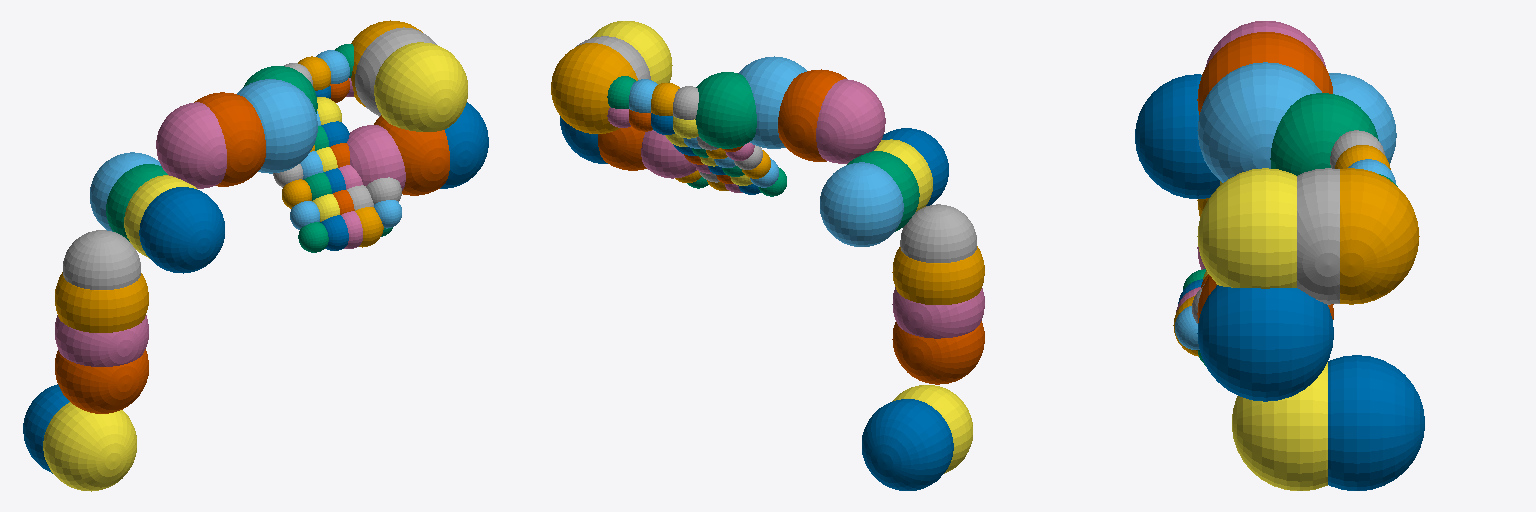
--- What the picture shows (computed from the rendered views, not written in the file) ---
Views: 3 orthographic renders of the robot side by side, from view 1: azimuth 30°, elevation 25°; view 2: azimuth 150°, elevation 25°; view 3: azimuth 270°, elevation 25°.
Model panda with 67 links and 66 joints (7 revolute, 59 fixed), rooted at panda_link0, posed joints at zero except 1 at the middle of their limits (panda_joint4 = -1.57).
Links seen in each view (by area): view 1: panda_link6_0, panda_link2_0, panda_link4_1, panda_link4_3, panda_link5_2, panda_link3_1, panda_link2_2, panda_link3_0, panda_link4_2, panda_link2_3, panda_link6_2, panda_link7_0 (+18 smaller); view 2: panda_link2_1, panda_link3_2, panda_link5_1, panda_link4_3, panda_link5_3, panda_link3_1, panda_link2_2, panda_link3_0, panda_link4_2, panda_link5_2, panda_link2_3, panda_link2_0 (+12 smaller); view 3: panda_link6_1, panda_link2_1, panda_link6_0, panda_link5_1, panda_link5_2, panda_link2_0, panda_link4_1, panda_link5_0, panda_link5_3, panda_link4_2, panda_link3_2, panda_link4_3 (+3 smaller).
Boxes of the visible links, x1,y1,x2,y2 form: panda_link6_0: (374,42,467,131); panda_link2_0: (43,402,136,491); panda_link4_1: (139,187,224,273); panda_link4_3: (156,102,226,188); panda_link5_2: (237,79,317,173); panda_link3_1: (55,272,148,332); panda_link2_2: (55,349,148,413); panda_link3_0: (63,230,140,289); panda_link4_2: (194,92,265,186); panda_link2_3: (55,315,148,366); panda_link6_2: (374,115,449,195); panda_link7_0: (347,125,405,190); panda_link2_1: (862,399,953,490); panda_link3_2: (820,162,903,246); panda_link5_1: (551,43,637,133); panda_link4_3: (816,79,885,163); panda_link5_3: (695,72,756,148); panda_link3_1: (892,246,984,304); panda_link2_2: (892,321,984,384); panda_link3_0: (900,204,976,262); panda_link4_2: (778,69,846,161); panda_link5_2: (738,56,806,148); panda_link2_3: (892,287,984,338); panda_link2_0: (892,385,972,473); panda_link6_1: (1197,285,1333,401); panda_link2_1: (1328,355,1424,490); panda_link6_0: (1197,168,1296,288); panda_link5_1: (1340,168,1419,304); panda_link5_2: (1197,62,1321,182); panda_link2_0: (1232,362,1327,490); panda_link4_1: (1135,74,1219,198); panda_link5_0: (1297,168,1339,304); panda_link5_3: (1270,93,1378,175); panda_link4_2: (1197,32,1332,114); panda_link3_2: (1329,73,1396,163); panda_link4_3: (1205,21,1325,67).
Bounding box of the posed robot: 0.6165 × 0.255 × 0.5185 m (x, y, z).
0 mesh visuals loaded from 9 distinct referenced files (none loaded); not drawn: 9 (reference not matched to a file when rendering).

URDF robot description (panda):
<?xml version="1.0" ?>
<robot name="panda" version="1.0">
   <link name="panda_link0">
      <inertial>
         <origin xyz="0.0 0.0 0.0" rpy="0.0 0.0 0.0"/>
         <mass value="2.8142028896"/>
         <inertia ixx="0.0129886979" ixy="0.0" ixz="0.0" iyy="0.0165355284" iyz="0.0" izz="0.0203311636"/>
      </inertial>
      <visual>
         <geometry>
            <mesh filename="package://franka_description/meshes/visual/link0.dae"/>
         </geometry>
      </visual>
      <collision>
         <geometry>
            <mesh filename="package://franka_description/meshes/collision/link0.stl"/>
         </geometry>
      </collision>
   </link>
   <link name="panda_link1">
      <inertial>
         <origin xyz="0.0 0.0 0.0" rpy="0.0 0.0 0.0"/>
         <mass value="2.3599995791"/>
         <inertia ixx="0.0186863903" ixy="0.0" ixz="0.0" iyy="0.0143789874" iyz="0.0" izz="0.00906812"/>
      </inertial>
      <visual>
         <geometry>
            <mesh filename="package://franka_description/meshes/visual/link1.dae"/>
         </geometry>
      </visual>
      <collision>
         <geometry>
            <mesh filename="package://franka_description/meshes/collision/link1.stl"/>
         </geometry>
      </collision>
   </link>
   <joint name="panda_joint1" type="revolute">
      <origin xyz="0.0 0.0 0.333" rpy="0.0 0.0 0.0"/>
      <axis xyz="0.0 0.0 1.0"/>
      <parent link="panda_link0"/>
      <child link="panda_link1"/>
      <limit effort="87.0" lower="-2.8973" upper="2.8973" velocity="2.175"/>
      <safety_controller k_velocity="40.0" k_position="100.0" soft_lower_limit="-2.8973" soft_upper_limit="2.8973"/>
   </joint>
   <link name="panda_link2">
      <inertial>
         <origin xyz="0.0 0.0 0.0" rpy="0.0 0.0 0.0"/>
         <mass value="2.379518833"/>
         <inertia ixx="0.0190388734" ixy="0.0" ixz="0.0" iyy="0.0091429124" iyz="0.0" izz="0.014697537"/>
      </inertial>
      <visual>
         <geometry>
            <mesh filename="package://franka_description/meshes/visual/link2.dae"/>
         </geometry>
      </visual>
      <collision>
         <geometry>
            <mesh filename="package://franka_description/meshes/collision/link2.stl"/>
         </geometry>
      </collision>
   </link>
   <joint name="panda_joint2" type="revolute">
      <origin xyz="0.0 0.0 0.0" rpy="-1.57079632679 0.0 0.0"/>
      <axis xyz="0.0 0.0 1.0"/>
      <parent link="panda_link1"/>
      <child link="panda_link2"/>
      <limit effort="87.0" lower="-1.7628" upper="1.7628" velocity="2.175"/>
      <safety_controller k_velocity="40.0" k_position="100.0" soft_lower_limit="-1.7628" soft_upper_limit="1.7628"/>
   </joint>
   <link name="panda_link3">
      <inertial>
         <origin xyz="0.0 0.0 0.0" rpy="0.0 0.0 0.0"/>
         <mass value="2.6498823337"/>
         <inertia ixx="0.0129300178" ixy="0.0" ixz="0.0" iyy="0.0150242121" iyz="0.0" izz="0.0142734598"/>
      </inertial>
      <visual>
         <geometry>
            <mesh filename="package://franka_description/meshes/visual/link3.dae"/>
         </geometry>
      </visual>
      <collision>
         <geometry>
            <mesh filename="package://franka_description/meshes/collision/link3.stl"/>
         </geometry>
      </collision>
   </link>
   <joint name="panda_joint3" type="revolute">
      <origin xyz="0.0 -0.316 0.0" rpy="1.57079632679 0.0 0.0"/>
      <axis xyz="0.0 0.0 1.0"/>
      <parent link="panda_link2"/>
      <child link="panda_link3"/>
      <limit effort="87.0" lower="-2.8973" upper="2.8973" velocity="2.175"/>
      <safety_controller k_velocity="40.0" k_position="100.0" soft_lower_limit="-2.8973" soft_upper_limit="2.8973"/>
   </joint>
   <link name="panda_link4">
      <inertial>
         <origin xyz="0.0 0.0 0.0" rpy="0.0 0.0 0.0"/>
         <mass value="2.6948018744"/>
         <inertia ixx="0.0133874611" ixy="0.0" ixz="0.0" iyy="0.014514325" iyz="0.0" izz="0.0155175551"/>
      </inertial>
      <visual>
         <geometry>
            <mesh filename="package://franka_description/meshes/visual/link4.dae"/>
         </geometry>
      </visual>
      <collision>
         <geometry>
            <mesh filename="package://franka_description/meshes/collision/link4.stl"/>
         </geometry>
      </collision>
   </link>
   <joint name="panda_joint4" type="revolute">
      <origin xyz="0.0825 0.0 0.0" rpy="1.57079632679 0.0 0.0"/>
      <axis xyz="0.0 0.0 1.0"/>
      <parent link="panda_link3"/>
      <child link="panda_link4"/>
      <limit effort="87.0" lower="-3.0718" upper="-0.0698" velocity="2.175"/>
      <safety_controller k_velocity="40.0" k_position="100.0" soft_lower_limit="-3.0718" soft_upper_limit="-0.0698"/>
   </joint>
   <link name="panda_link5">
      <inertial>
         <origin xyz="0.0 0.0 0.0" rpy="0.0 0.0 0.0"/>
         <mass value="2.9812816864"/>
         <inertia ixx="0.0325565705" ixy="0.0" ixz="0.0" iyy="0.0270660472" iyz="0.0" izz="0.0115023375"/>
      </inertial>
      <visual>
         <geometry>
            <mesh filename="package://franka_description/meshes/visual/link5.dae"/>
         </geometry>
      </visual>
      <collision>
         <geometry>
            <mesh filename="package://franka_description/meshes/collision/link5.stl"/>
         </geometry>
      </collision>
   </link>
   <joint name="panda_joint5" type="revolute">
      <origin xyz="-0.0825 0.384 0.0" rpy="-1.57079632679 0.0 0.0"/>
      <axis xyz="0.0 0.0 1.0"/>
      <parent link="panda_link4"/>
      <child link="panda_link5"/>
      <limit effort="12.0" lower="-2.8973" upper="2.8973" velocity="2.61"/>
      <safety_controller k_velocity="40.0" k_position="100.0" soft_lower_limit="-2.8973" soft_upper_limit="2.8973"/>
   </joint>
   <link name="panda_link6">
      <inertial>
         <origin xyz="0.0 0.0 0.0" rpy="0.0 0.0 0.0"/>
         <mass value="1.1285806309"/>
         <inertia ixx="0.0026052565" ixy="0.0" ixz="0.0" iyy="0.0039897229" iyz="0.0" izz="0.0047048591"/>
      </inertial>
      <visual>
         <geometry>
            <mesh filename="package://franka_description/meshes/visual/link6.dae"/>
         </geometry>
      </visual>
      <collision>
         <geometry>
            <mesh filename="package://franka_description/meshes/collision/link6.stl"/>
         </geometry>
      </collision>
   </link>
   <joint name="panda_joint6" type="revolute">
      <origin xyz="0.0 0.0 0.0" rpy="1.57079632679 0.0 0.0"/>
      <axis xyz="0.0 0.0 1.0"/>
      <parent link="panda_link5"/>
      <child link="panda_link6"/>
      <limit effort="12.0" lower="-0.0175" upper="3.7525" velocity="2.61"/>
      <safety_controller k_velocity="40.0" k_position="100.0" soft_lower_limit="-0.0175" soft_upper_limit="3.7525"/>
   </joint>
   <link name="panda_link7">
      <inertial>
         <origin xyz="0.0 0.0 0.0" rpy="0.0 0.0 0.0"/>
         <mass value="0.4052912465"/>
         <inertia ixx="0.0006316592" ixy="0.0" ixz="0.0" iyy="0.0006319639" iyz="0.0" izz="0.0010607721"/>
      </inertial>
      <visual>
         <geometry>
            <mesh filename="package://franka_description/meshes/visual/link7.dae"/>
         </geometry>
      </visual>
      <collision>
         <geometry>
            <mesh filename="package://franka_description/meshes/collision/link7.stl"/>
         </geometry>
      </collision>
   </link>
   <joint name="panda_joint7" type="revolute">
      <origin xyz="0.088 0.0 0.0" rpy="1.57079632679 0.0 0.0"/>
      <axis xyz="0.0 0.0 1.0"/>
      <parent link="panda_link6"/>
      <child link="panda_link7"/>
      <limit effort="12.0" lower="-2.8973" upper="2.8973" velocity="2.61"/>
      <safety_controller k_velocity="40.0" k_position="100.0" soft_lower_limit="-2.8973" soft_upper_limit="2.8973"/>
   </joint>
   <link name="panda_link8"/>
   <joint name="panda_joint8" type="fixed">
      <origin xyz="0.0 0.0 0.107" rpy="0.0 0.0 0.0"/>
      <axis xyz="0.0 0.0 0.0"/>
      <parent link="panda_link7"/>
      <child link="panda_link8"/>
   </joint>
   <joint name="panda_hand_joint" type="fixed">
      <origin xyz="0.0 0.0 0.0" rpy="0.0 0.0 -0.785398163397"/>
      <parent link="panda_link8"/>
      <child link="panda_hand"/>
   </joint>
   <link name="panda_hand">
      <inertial>
         <origin xyz="0.0 0.0 0.0" rpy="0.0 0.0 0.0"/>
         <mass value="0.5583304799"/>
         <inertia ixx="0.0023394448" ixy="0.0" ixz="0.0" iyy="0.0005782786" iyz="0.0" izz="0.0021310296"/>
      </inertial>
      <visual>
         <geometry>
            <mesh filename="package://franka_description/meshes/visual/hand.dae"/>
         </geometry>
      </visual>
      <collision>
         <geometry>
            <mesh filename="package://franka_description/meshes/collision/hand.stl"/>
         </geometry>
      </collision>
   </link>
   <joint name="ee_fixed_joint" type="fixed">
      <origin xyz="0.0 0.0 0.1" rpy="0.0 0.0 -1.57"/>
      <parent link="panda_hand"/>
      <child link="ee_link"/>
   </joint>
   <link name="ee_link">
      <collision>
         <origin xyz="0.0 0.0 0.0" rpy="0.0 0.0 0.0"/>
         <geometry>
            <box size="0.01 0.01 0.01"/>
         </geometry>
      </collision>
   </link>
   <joint name="joint_panda_link2_sphere_0" type="fixed">
      <origin xyz="0.0 0.0 0.03" rpy="0 0 0"/>
      <parent link="panda_link2"/>
      <child link="panda_link2_0"/>
   </joint>
   <link name="panda_link2_0">
      <origin xyz="0.0 0.0 0.0" rpy="0.0 0.0 0.0"/>
      <visual>
         <geometry>
            <sphere radius="0.06"/>
         </geometry>
      </visual>
   </link>
   <joint name="joint_panda_link2_sphere_1" type="fixed">
      <origin xyz="0.0 0.0 0.08" rpy="0 0 0"/>
      <parent link="panda_link2"/>
      <child link="panda_link2_1"/>
   </joint>
   <link name="panda_link2_1">
      <origin xyz="0.0 0.0 0.0" rpy="0.0 0.0 0.0"/>
      <visual>
         <geometry>
            <sphere radius="0.06"/>
         </geometry>
      </visual>
   </link>
   <joint name="joint_panda_link2_sphere_2" type="fixed">
      <origin xyz="0.0 -0.12 0.0" rpy="0 0 0"/>
      <parent link="panda_link2"/>
      <child link="panda_link2_2"/>
   </joint>
   <link name="panda_link2_2">
      <origin xyz="0.0 0.0 0.0" rpy="0.0 0.0 0.0"/>
      <visual>
         <geometry>
            <sphere radius="0.06"/>
         </geometry>
      </visual>
   </link>
   <joint name="joint_panda_link2_sphere_3" type="fixed">
      <origin xyz="0.0 -0.17 0.0" rpy="0 0 0"/>
      <parent link="panda_link2"/>
      <child link="panda_link2_3"/>
   </joint>
   <link name="panda_link2_3">
      <origin xyz="0.0 0.0 0.0" rpy="0.0 0.0 0.0"/>
      <visual>
         <geometry>
            <sphere radius="0.06"/>
         </geometry>
      </visual>
   </link>
   <joint name="joint_panda_link3_sphere_0" type="fixed">
      <origin xyz="0.0 0.0 -0.06" rpy="0 0 0"/>
      <parent link="panda_link3"/>
      <child link="panda_link3_0"/>
   </joint>
   <link name="panda_link3_0">
      <origin xyz="0.0 0.0 0.0" rpy="0.0 0.0 0.0"/>
      <visual>
         <geometry>
            <sphere radius="0.05"/>
         </geometry>
      </visual>
   </link>
   <joint name="joint_panda_link3_sphere_1" type="fixed">
      <origin xyz="0.0 0.0 -0.1" rpy="0 0 0"/>
      <parent link="panda_link3"/>
      <child link="panda_link3_1"/>
   </joint>
   <link name="panda_link3_1">
      <origin xyz="0.0 0.0 0.0" rpy="0.0 0.0 0.0"/>
      <visual>
         <geometry>
            <sphere radius="0.06"/>
         </geometry>
      </visual>
   </link>
   <joint name="joint_panda_link3_sphere_2" type="fixed">
      <origin xyz="0.08 0.06 0.0" rpy="0 0 0"/>
      <parent link="panda_link3"/>
      <child link="panda_link3_2"/>
   </joint>
   <link name="panda_link3_2">
      <origin xyz="0.0 0.0 0.0" rpy="0.0 0.0 0.0"/>
      <visual>
         <geometry>
            <sphere radius="0.055"/>
         </geometry>
      </visual>
   </link>
   <joint name="joint_panda_link3_sphere_3" type="fixed">
      <origin xyz="0.08 0.02 0.0" rpy="0 0 0"/>
      <parent link="panda_link3"/>
      <child link="panda_link3_3"/>
   </joint>
   <link name="panda_link3_3">
      <origin xyz="0.0 0.0 0.0" rpy="0.0 0.0 0.0"/>
      <visual>
         <geometry>
            <sphere radius="0.055"/>
         </geometry>
      </visual>
   </link>
   <joint name="joint_panda_link4_sphere_0" type="fixed">
      <origin xyz="0.0 0.0 0.02" rpy="0 0 0"/>
      <parent link="panda_link4"/>
      <child link="panda_link4_0"/>
   </joint>
   <link name="panda_link4_0">
      <origin xyz="0.0 0.0 0.0" rpy="0.0 0.0 0.0"/>
      <visual>
         <geometry>
            <sphere radius="0.055"/>
         </geometry>
      </visual>
   </link>
   <joint name="joint_panda_link4_sphere_1" type="fixed">
      <origin xyz="0.0 0.0 0.06" rpy="0 0 0"/>
      <parent link="panda_link4"/>
      <child link="panda_link4_1"/>
   </joint>
   <link name="panda_link4_1">
      <origin xyz="0.0 0.0 0.0" rpy="0.0 0.0 0.0"/>
      <visual>
         <geometry>
            <sphere radius="0.055"/>
         </geometry>
      </visual>
   </link>
   <joint name="joint_panda_link4_sphere_2" type="fixed">
      <origin xyz="-0.08 0.095 0.0" rpy="0 0 0"/>
      <parent link="panda_link4"/>
      <child link="panda_link4_2"/>
   </joint>
   <link name="panda_link4_2">
      <origin xyz="0.0 0.0 0.0" rpy="0.0 0.0 0.0"/>
      <visual>
         <geometry>
            <sphere radius="0.06"/>
         </geometry>
      </visual>
   </link>
   <joint name="joint_panda_link4_sphere_3" type="fixed">
      <origin xyz="-0.08 0.06 0.0" rpy="0 0 0"/>
      <parent link="panda_link4"/>
      <child link="panda_link4_3"/>
   </joint>
   <link name="panda_link4_3">
      <origin xyz="0.0 0.0 0.0" rpy="0.0 0.0 0.0"/>
      <visual>
         <geometry>
            <sphere radius="0.055"/>
         </geometry>
      </visual>
   </link>
   <joint name="joint_panda_link5_sphere_0" type="fixed">
      <origin xyz="0.0 0.055 0.0" rpy="0 0 0"/>
      <parent link="panda_link5"/>
      <child link="panda_link5_0"/>
   </joint>
   <link name="panda_link5_0">
      <origin xyz="0.0 0.0 0.0" rpy="0.0 0.0 0.0"/>
      <visual>
         <geometry>
            <sphere radius="0.06"/>
         </geometry>
      </visual>
   </link>
   <joint name="joint_panda_link5_sphere_1" type="fixed">
      <origin xyz="0.0 0.075 0.0" rpy="0 0 0"/>
      <parent link="panda_link5"/>
      <child link="panda_link5_1"/>
   </joint>
   <link name="panda_link5_1">
      <origin xyz="0.0 0.0 0.0" rpy="0.0 0.0 0.0"/>
      <visual>
         <geometry>
            <sphere radius="0.06"/>
         </geometry>
      </visual>
   </link>
   <joint name="joint_panda_link5_sphere_2" type="fixed">
      <origin xyz="0.0 0.0 -0.22" rpy="0 0 0"/>
      <parent link="panda_link5"/>
      <child link="panda_link5_2"/>
   </joint>
   <link name="panda_link5_2">
      <origin xyz="0.0 0.0 0.0" rpy="0.0 0.0 0.0"/>
      <visual>
         <geometry>
            <sphere radius="0.06"/>
         </geometry>
      </visual>
   </link>
   <joint name="joint_panda_link5_sphere_3" type="fixed">
      <origin xyz="0.0 0.05 -0.18" rpy="0 0 0"/>
      <parent link="panda_link5"/>
      <child link="panda_link5_3"/>
   </joint>
   <link name="panda_link5_3">
      <origin xyz="0.0 0.0 0.0" rpy="0.0 0.0 0.0"/>
      <visual>
         <geometry>
            <sphere radius="0.05"/>
         </geometry>
      </visual>
   </link>
   <joint name="joint_panda_link5_sphere_4" type="fixed">
      <origin xyz="0.01 0.08 -0.14" rpy="0 0 0"/>
      <parent link="panda_link5"/>
      <child link="panda_link5_4"/>
   </joint>
   <link name="panda_link5_4">
      <origin xyz="0.0 0.0 0.0" rpy="0.0 0.0 0.0"/>
      <visual>
         <geometry>
            <sphere radius="0.025"/>
         </geometry>
      </visual>
   </link>
   <joint name="joint_panda_link5_sphere_5" type="fixed">
      <origin xyz="0.01 0.085 -0.11" rpy="0 0 0"/>
      <parent link="panda_link5"/>
      <child link="panda_link5_5"/>
   </joint>
   <link name="panda_link5_5">
      <origin xyz="0.0 0.0 0.0" rpy="0.0 0.0 0.0"/>
      <visual>
         <geometry>
            <sphere radius="0.025"/>
         </geometry>
      </visual>
   </link>
   <joint name="joint_panda_link5_sphere_6" type="fixed">
      <origin xyz="0.01 0.09 -0.08" rpy="0 0 0"/>
      <parent link="panda_link5"/>
      <child link="panda_link5_6"/>
   </joint>
   <link name="panda_link5_6">
      <origin xyz="0.0 0.0 0.0" rpy="0.0 0.0 0.0"/>
      <visual>
         <geometry>
            <sphere radius="0.025"/>
         </geometry>
      </visual>
   </link>
   <joint name="joint_panda_link5_sphere_7" type="fixed">
      <origin xyz="0.01 0.095 -0.05" rpy="0 0 0"/>
      <parent link="panda_link5"/>
      <child link="panda_link5_7"/>
   </joint>
   <link name="panda_link5_7">
      <origin xyz="0.0 0.0 0.0" rpy="0.0 0.0 0.0"/>
      <visual>
         <geometry>
            <sphere radius="0.025"/>
         </geometry>
      </visual>
   </link>
   <joint name="joint_panda_link5_sphere_8" type="fixed">
      <origin xyz="-0.01 0.08 -0.14" rpy="0 0 0"/>
      <parent link="panda_link5"/>
      <child link="panda_link5_8"/>
   </joint>
   <link name="panda_link5_8">
      <origin xyz="0.0 0.0 0.0" rpy="0.0 0.0 0.0"/>
      <visual>
         <geometry>
            <sphere radius="0.025"/>
         </geometry>
      </visual>
   </link>
   <joint name="joint_panda_link5_sphere_9" type="fixed">
      <origin xyz="-0.01 0.085 -0.11" rpy="0 0 0"/>
      <parent link="panda_link5"/>
      <child link="panda_link5_9"/>
   </joint>
   <link name="panda_link5_9">
      <origin xyz="0.0 0.0 0.0" rpy="0.0 0.0 0.0"/>
      <visual>
         <geometry>
            <sphere radius="0.025"/>
         </geometry>
      </visual>
   </link>
   <joint name="joint_panda_link5_sphere_10" type="fixed">
      <origin xyz="-0.01 0.09 -0.08" rpy="0 0 0"/>
      <parent link="panda_link5"/>
      <child link="panda_link5_10"/>
   </joint>
   <link name="panda_link5_10">
      <origin xyz="0.0 0.0 0.0" rpy="0.0 0.0 0.0"/>
      <visual>
         <geometry>
            <sphere radius="0.025"/>
         </geometry>
      </visual>
   </link>
   <joint name="joint_panda_link5_sphere_11" type="fixed">
      <origin xyz="-0.01 0.095 -0.05" rpy="0 0 0"/>
      <parent link="panda_link5"/>
      <child link="panda_link5_11"/>
   </joint>
   <link name="panda_link5_11">
      <origin xyz="0.0 0.0 0.0" rpy="0.0 0.0 0.0"/>
      <visual>
         <geometry>
            <sphere radius="0.025"/>
         </geometry>
      </visual>
   </link>
   <joint name="joint_panda_link6_sphere_0" type="fixed">
      <origin xyz="0.0 0.0 0.0" rpy="0 0 0"/>
      <parent link="panda_link6"/>
      <child link="panda_link6_0"/>
   </joint>
   <link name="panda_link6_0">
      <origin xyz="0.0 0.0 0.0" rpy="0.0 0.0 0.0"/>
      <visual>
         <geometry>
            <sphere radius="0.06"/>
         </geometry>
      </visual>
   </link>
   <joint name="joint_panda_link6_sphere_1" type="fixed">
      <origin xyz="0.08 0.03 0.0" rpy="0 0 0"/>
      <parent link="panda_link6"/>
      <child link="panda_link6_1"/>
   </joint>
   <link name="panda_link6_1">
      <origin xyz="0.0 0.0 0.0" rpy="0.0 0.0 0.0"/>
      <visual>
         <geometry>
            <sphere radius="0.06"/>
         </geometry>
      </visual>
   </link>
   <joint name="joint_panda_link6_sphere_2" type="fixed">
      <origin xyz="0.08 -0.01 0.0" rpy="0 0 0"/>
      <parent link="panda_link6"/>
      <child link="panda_link6_2"/>
   </joint>
   <link name="panda_link6_2">
      <origin xyz="0.0 0.0 0.0" rpy="0.0 0.0 0.0"/>
      <visual>
         <geometry>
            <sphere radius="0.06"/>
         </geometry>
      </visual>
   </link>
   <joint name="joint_panda_link7_sphere_0" type="fixed">
      <origin xyz="0.0 0.0 0.07" rpy="0 0 0"/>
      <parent link="panda_link7"/>
      <child link="panda_link7_0"/>
   </joint>
   <link name="panda_link7_0">
      <origin xyz="0.0 0.0 0.0" rpy="0.0 0.0 0.0"/>
      <visual>
         <geometry>
            <sphere radius="0.05"/>
         </geometry>
      </visual>
   </link>
   <joint name="joint_panda_link7_sphere_1" type="fixed">
      <origin xyz="0.02 0.04 0.08" rpy="0 0 0"/>
      <parent link="panda_link7"/>
      <child link="panda_link7_1"/>
   </joint>
   <link name="panda_link7_1">
      <origin xyz="0.0 0.0 0.0" rpy="0.0 0.0 0.0"/>
      <visual>
         <geometry>
            <sphere radius="0.025"/>
         </geometry>
      </visual>
   </link>
   <joint name="joint_panda_link7_sphere_2" type="fixed">
      <origin xyz="0.04 0.02 0.08" rpy="0 0 0"/>
      <parent link="panda_link7"/>
      <child link="panda_link7_2"/>
   </joint>
   <link name="panda_link7_2">
      <origin xyz="0.0 0.0 0.0" rpy="0.0 0.0 0.0"/>
      <visual>
         <geometry>
            <sphere radius="0.025"/>
         </geometry>
      </visual>
   </link>
   <joint name="joint_panda_link7_sphere_3" type="fixed">
      <origin xyz="0.04 0.06 0.085" rpy="0 0 0"/>
      <parent link="panda_link7"/>
      <child link="panda_link7_3"/>
   </joint>
   <link name="panda_link7_3">
      <origin xyz="0.0 0.0 0.0" rpy="0.0 0.0 0.0"/>
      <visual>
         <geometry>
            <sphere radius="0.02"/>
         </geometry>
      </visual>
   </link>
   <joint name="joint_panda_link7_sphere_4" type="fixed">
      <origin xyz="0.06 0.04 0.085" rpy="0 0 0"/>
      <parent link="panda_link7"/>
      <child link="panda_link7_4"/>
   </joint>
   <link name="panda_link7_4">
      <origin xyz="0.0 0.0 0.0" rpy="0.0 0.0 0.0"/>
      <visual>
         <geometry>
            <sphere radius="0.02"/>
         </geometry>
      </visual>
   </link>
   <joint name="joint_panda_hand_sphere_0" type="fixed">
      <origin xyz="0.0 -0.075 0.01" rpy="0 0 0"/>
      <parent link="panda_hand"/>
      <child link="panda_hand_0"/>
   </joint>
   <link name="panda_hand_0">
      <origin xyz="0.0 0.0 0.0" rpy="0.0 0.0 0.0"/>
      <visual>
         <geometry>
            <sphere radius="0.028"/>
         </geometry>
      </visual>
   </link>
   <joint name="joint_panda_hand_sphere_1" type="fixed">
      <origin xyz="0.0 -0.045 0.01" rpy="0 0 0"/>
      <parent link="panda_hand"/>
      <child link="panda_hand_1"/>
   </joint>
   <link name="panda_hand_1">
      <origin xyz="0.0 0.0 0.0" rpy="0.0 0.0 0.0"/>
      <visual>
         <geometry>
            <sphere radius="0.028"/>
         </geometry>
      </visual>
   </link>
   <joint name="joint_panda_hand_sphere_2" type="fixed">
      <origin xyz="0.0 -0.015 0.01" rpy="0 0 0"/>
      <parent link="panda_hand"/>
      <child link="panda_hand_2"/>
   </joint>
   <link name="panda_hand_2">
      <origin xyz="0.0 0.0 0.0" rpy="0.0 0.0 0.0"/>
      <visual>
         <geometry>
            <sphere radius="0.028"/>
         </geometry>
      </visual>
   </link>
   <joint name="joint_panda_hand_sphere_3" type="fixed">
      <origin xyz="0.0 0.015 0.01" rpy="0 0 0"/>
      <parent link="panda_hand"/>
      <child link="panda_hand_3"/>
   </joint>
   <link name="panda_hand_3">
      <origin xyz="0.0 0.0 0.0" rpy="0.0 0.0 0.0"/>
      <visual>
         <geometry>
            <sphere radius="0.028"/>
         </geometry>
      </visual>
   </link>
   <joint name="joint_panda_hand_sphere_4" type="fixed">
      <origin xyz="0.0 0.045 0.01" rpy="0 0 0"/>
      <parent link="panda_hand"/>
      <child link="panda_hand_4"/>
   </joint>
   <link name="panda_hand_4">
      <origin xyz="0.0 0.0 0.0" rpy="0.0 0.0 0.0"/>
      <visual>
         <geometry>
            <sphere radius="0.028"/>
         </geometry>
      </visual>
   </link>
   <joint name="joint_panda_hand_sphere_5" type="fixed">
      <origin xyz="0.0 0.075 0.01" rpy="0 0 0"/>
      <parent link="panda_hand"/>
      <child link="panda_hand_5"/>
   </joint>
   <link name="panda_hand_5">
      <origin xyz="0.0 0.0 0.0" rpy="0.0 0.0 0.0"/>
      <visual>
         <geometry>
            <sphere radius="0.028"/>
         </geometry>
      </visual>
   </link>
   <joint name="joint_panda_hand_sphere_6" type="fixed">
      <origin xyz="0.0 -0.075 0.03" rpy="0 0 0"/>
      <parent link="panda_hand"/>
      <child link="panda_hand_6"/>
   </joint>
   <link name="panda_hand_6">
      <origin xyz="0.0 0.0 0.0" rpy="0.0 0.0 0.0"/>
      <visual>
         <geometry>
            <sphere radius="0.026"/>
         </geometry>
      </visual>
   </link>
   <joint name="joint_panda_hand_sphere_7" type="fixed">
      <origin xyz="0.0 -0.045 0.03" rpy="0 0 0"/>
      <parent link="panda_hand"/>
      <child link="panda_hand_7"/>
   </joint>
   <link name="panda_hand_7">
      <origin xyz="0.0 0.0 0.0" rpy="0.0 0.0 0.0"/>
      <visual>
         <geometry>
            <sphere radius="0.026"/>
         </geometry>
      </visual>
   </link>
   <joint name="joint_panda_hand_sphere_8" type="fixed">
      <origin xyz="0.0 -0.015 0.03" rpy="0 0 0"/>
      <parent link="panda_hand"/>
      <child link="panda_hand_8"/>
   </joint>
   <link name="panda_hand_8">
      <origin xyz="0.0 0.0 0.0" rpy="0.0 0.0 0.0"/>
      <visual>
         <geometry>
            <sphere radius="0.026"/>
         </geometry>
      </visual>
   </link>
   <joint name="joint_panda_hand_sphere_9" type="fixed">
      <origin xyz="0.0 0.015 0.03" rpy="0 0 0"/>
      <parent link="panda_hand"/>
      <child link="panda_hand_9"/>
   </joint>
   <link name="panda_hand_9">
      <origin xyz="0.0 0.0 0.0" rpy="0.0 0.0 0.0"/>
      <visual>
         <geometry>
            <sphere radius="0.026"/>
         </geometry>
      </visual>
   </link>
   <joint name="joint_panda_hand_sphere_10" type="fixed">
      <origin xyz="0.0 0.045 0.03" rpy="0 0 0"/>
      <parent link="panda_hand"/>
      <child link="panda_hand_10"/>
   </joint>
   <link name="panda_hand_10">
      <origin xyz="0.0 0.0 0.0" rpy="0.0 0.0 0.0"/>
      <visual>
         <geometry>
            <sphere radius="0.026"/>
         </geometry>
      </visual>
   </link>
   <joint name="joint_panda_hand_sphere_11" type="fixed">
      <origin xyz="0.0 0.075 0.03" rpy="0 0 0"/>
      <parent link="panda_hand"/>
      <child link="panda_hand_11"/>
   </joint>
   <link name="panda_hand_11">
      <origin xyz="0.0 0.0 0.0" rpy="0.0 0.0 0.0"/>
      <visual>
         <geometry>
            <sphere radius="0.026"/>
         </geometry>
      </visual>
   </link>
   <joint name="joint_panda_hand_sphere_12" type="fixed">
      <origin xyz="0.0 -0.075 0.05" rpy="0 0 0"/>
      <parent link="panda_hand"/>
      <child link="panda_hand_12"/>
   </joint>
   <link name="panda_hand_12">
      <origin xyz="0.0 0.0 0.0" rpy="0.0 0.0 0.0"/>
      <visual>
         <geometry>
            <sphere radius="0.024"/>
         </geometry>
      </visual>
   </link>
   <joint name="joint_panda_hand_sphere_13" type="fixed">
      <origin xyz="0.0 -0.045 0.05" rpy="0 0 0"/>
      <parent link="panda_hand"/>
      <child link="panda_hand_13"/>
   </joint>
   <link name="panda_hand_13">
      <origin xyz="0.0 0.0 0.0" rpy="0.0 0.0 0.0"/>
      <visual>
         <geometry>
            <sphere radius="0.024"/>
         </geometry>
      </visual>
   </link>
   <joint name="joint_panda_hand_sphere_14" type="fixed">
      <origin xyz="0.0 -0.015 0.05" rpy="0 0 0"/>
      <parent link="panda_hand"/>
      <child link="panda_hand_14"/>
   </joint>
   <link name="panda_hand_14">
      <origin xyz="0.0 0.0 0.0" rpy="0.0 0.0 0.0"/>
      <visual>
         <geometry>
            <sphere radius="0.024"/>
         </geometry>
      </visual>
   </link>
   <joint name="joint_panda_hand_sphere_15" type="fixed">
      <origin xyz="0.0 0.015 0.05" rpy="0 0 0"/>
      <parent link="panda_hand"/>
      <child link="panda_hand_15"/>
   </joint>
   <link name="panda_hand_15">
      <origin xyz="0.0 0.0 0.0" rpy="0.0 0.0 0.0"/>
      <visual>
         <geometry>
            <sphere radius="0.024"/>
         </geometry>
      </visual>
   </link>
   <joint name="joint_panda_hand_sphere_16" type="fixed">
      <origin xyz="0.0 0.045 0.05" rpy="0 0 0"/>
      <parent link="panda_hand"/>
      <child link="panda_hand_16"/>
   </joint>
   <link name="panda_hand_16">
      <origin xyz="0.0 0.0 0.0" rpy="0.0 0.0 0.0"/>
      <visual>
         <geometry>
            <sphere radius="0.024"/>
         </geometry>
      </visual>
   </link>
   <joint name="joint_panda_hand_sphere_17" type="fixed">
      <origin xyz="0.0 0.075 0.05" rpy="0 0 0"/>
      <parent link="panda_hand"/>
      <child link="panda_hand_17"/>
   </joint>
   <link name="panda_hand_17">
      <origin xyz="0.0 0.0 0.0" rpy="0.0 0.0 0.0"/>
      <visual>
         <geometry>
            <sphere radius="0.024"/>
         </geometry>
      </visual>
   </link>
   <joint name="joint_panda_hand_sphere_18" type="fixed">
      <origin xyz="0.0 -0.075 0.08" rpy="0 0 0"/>
      <parent link="panda_hand"/>
      <child link="panda_hand_18"/>
   </joint>
   <link name="panda_hand_18">
      <origin xyz="0.0 0.0 0.0" rpy="0.0 0.0 0.0"/>
      <visual>
         <geometry>
            <sphere radius="0.02"/>
         </geometry>
      </visual>
   </link>
   <joint name="joint_panda_hand_sphere_19" type="fixed">
      <origin xyz="0.0 -0.045 0.08" rpy="0 0 0"/>
      <parent link="panda_hand"/>
      <child link="panda_hand_19"/>
   </joint>
   <link name="panda_hand_19">
      <origin xyz="0.0 0.0 0.0" rpy="0.0 0.0 0.0"/>
      <visual>
         <geometry>
            <sphere radius="0.02"/>
         </geometry>
      </visual>
   </link>
   <joint name="joint_panda_hand_sphere_20" type="fixed">
      <origin xyz="0.0 -0.015 0.08" rpy="0 0 0"/>
      <parent link="panda_hand"/>
      <child link="panda_hand_20"/>
   </joint>
   <link name="panda_hand_20">
      <origin xyz="0.0 0.0 0.0" rpy="0.0 0.0 0.0"/>
      <visual>
         <geometry>
            <sphere radius="0.02"/>
         </geometry>
      </visual>
   </link>
   <joint name="joint_panda_hand_sphere_21" type="fixed">
      <origin xyz="0.0 0.015 0.08" rpy="0 0 0"/>
      <parent link="panda_hand"/>
      <child link="panda_hand_21"/>
   </joint>
   <link name="panda_hand_21">
      <origin xyz="0.0 0.0 0.0" rpy="0.0 0.0 0.0"/>
      <visual>
         <geometry>
            <sphere radius="0.02"/>
         </geometry>
      </visual>
   </link>
   <joint name="joint_panda_hand_sphere_22" type="fixed">
      <origin xyz="0.0 0.045 0.08" rpy="0 0 0"/>
      <parent link="panda_hand"/>
      <child link="panda_hand_22"/>
   </joint>
   <link name="panda_hand_22">
      <origin xyz="0.0 0.0 0.0" rpy="0.0 0.0 0.0"/>
      <visual>
         <geometry>
            <sphere radius="0.02"/>
         </geometry>
      </visual>
   </link>
   <joint name="joint_panda_hand_sphere_23" type="fixed">
      <origin xyz="0.0 0.075 0.08" rpy="0 0 0"/>
      <parent link="panda_hand"/>
      <child link="panda_hand_23"/>
   </joint>
   <link name="panda_hand_23">
      <origin xyz="0.0 0.0 0.0" rpy="0.0 0.0 0.0"/>
      <visual>
         <geometry>
            <sphere radius="0.02"/>
         </geometry>
      </visual>
   </link>
</robot>
